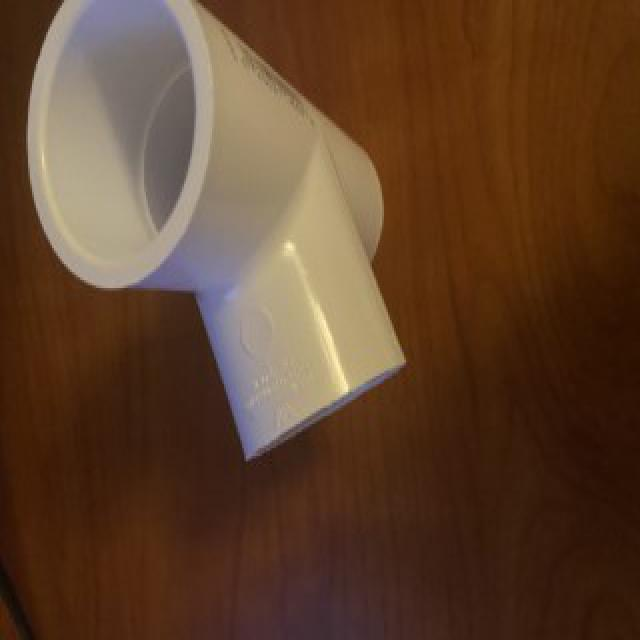T Joint: (25, 0, 407, 464)
